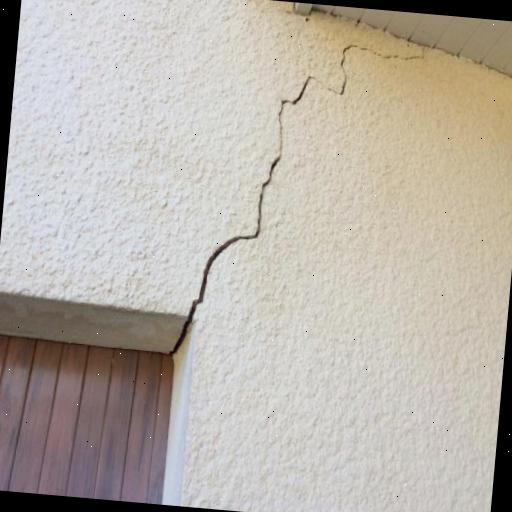spalling: (166, 35, 421, 359)
